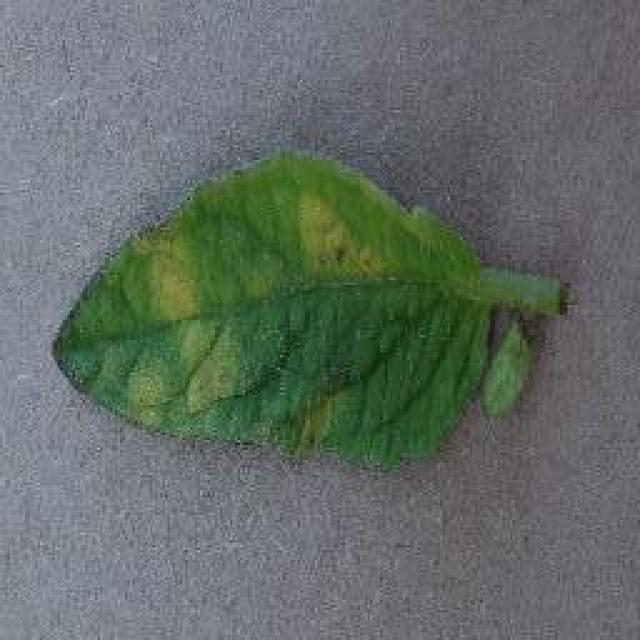Tomato mold leaf: (51, 155, 539, 465)
